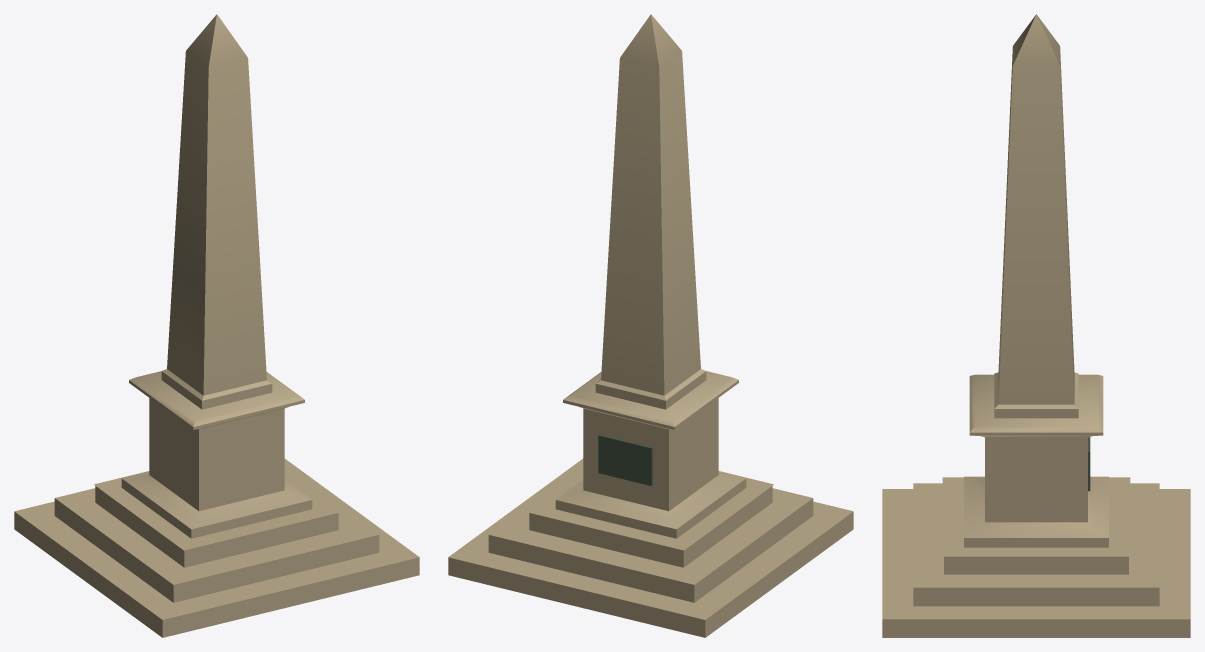
Rendered from mon_obelisk.glb.
The picture shows the model from 3 angles, left to right: view 1: azimuth 30°, elevation 25°; view 2: azimuth 150°, elevation 25°; view 3: azimuth 270°, elevation 25°; orthographic projection. The views are drawn at different scales.
Visible parts, largest first — view 1: mon_obelisk; view 2: mon_obelisk; view 3: mon_obelisk.
Part boxes in pixels (x1,y1,x2,y2): mon_obelisk: (14, 14, 419, 637); mon_obelisk: (448, 14, 853, 637); mon_obelisk: (882, 14, 1190, 637).
Size of the model in its own units: 3 by 6 by 3.
